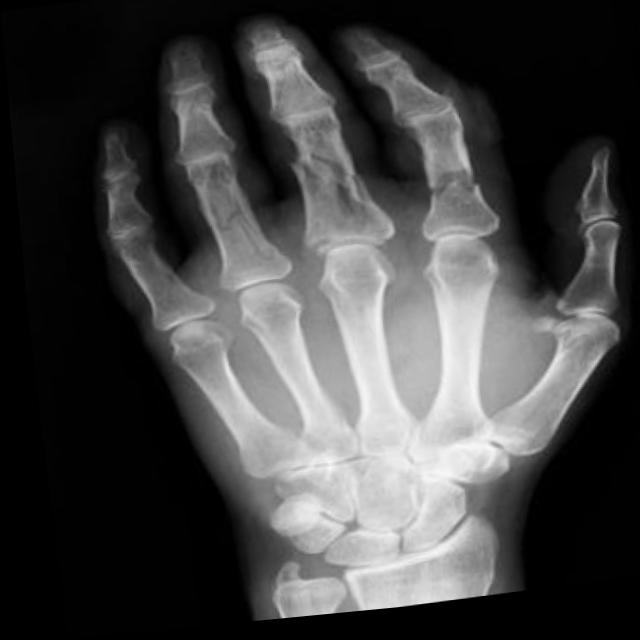fracture: (279, 148, 383, 239), (204, 192, 273, 267), (420, 172, 491, 215)
